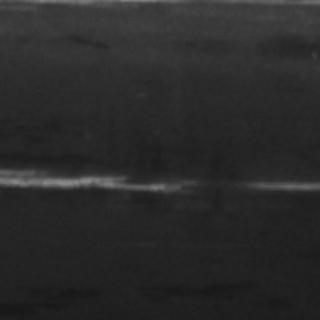scratches: (1, 159, 196, 197), (240, 172, 316, 196)
